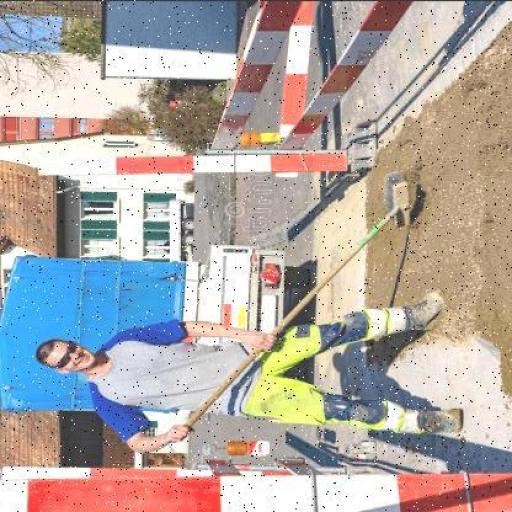person: (36, 289, 474, 462)
safety_shoe: (418, 405, 472, 437), (410, 287, 448, 332)
